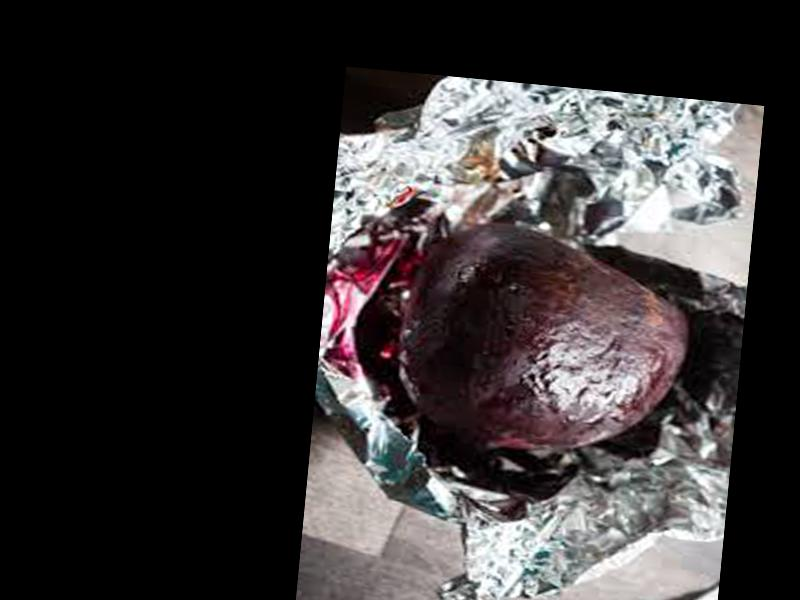Beet: (402, 215, 699, 468)
